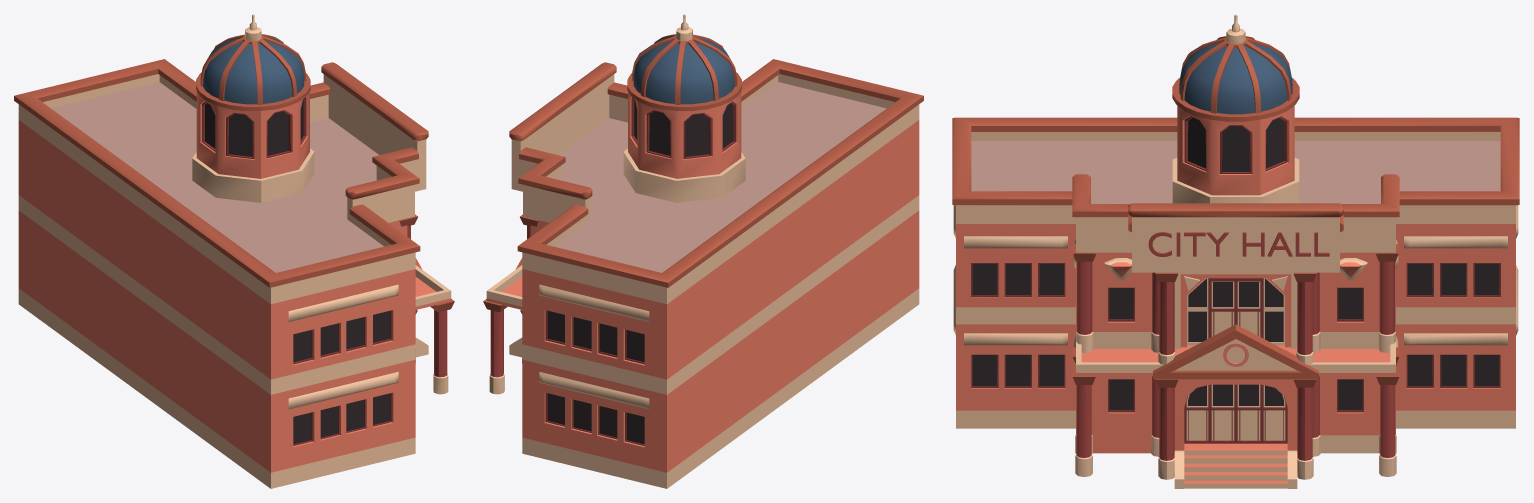
File: city-hall.glb
3 renders of one model, left to right at view 1: azimuth 30°, elevation 25°; view 2: azimuth 150°, elevation 25°; view 3: azimuth 270°, elevation 25°, orthographic. The views are drawn at different scales.
Visible parts, largest first — view 1: PublicBuilding_CityHall; view 2: PublicBuilding_CityHall; view 3: PublicBuilding_CityHall.
Part boxes in pixels (x1,y1,x2,y2): PublicBuilding_CityHall: [14, 14, 454, 488]; PublicBuilding_CityHall: [483, 14, 923, 488]; PublicBuilding_CityHall: [952, 14, 1519, 488].
Size of what is drawn, in the model's own units: 5.41 by 7.11 by 9.25.
1 material, 1 textured.
